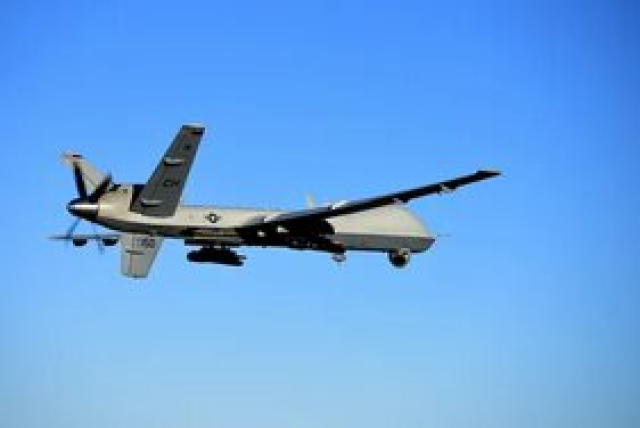military drone: (45, 123, 504, 278)
